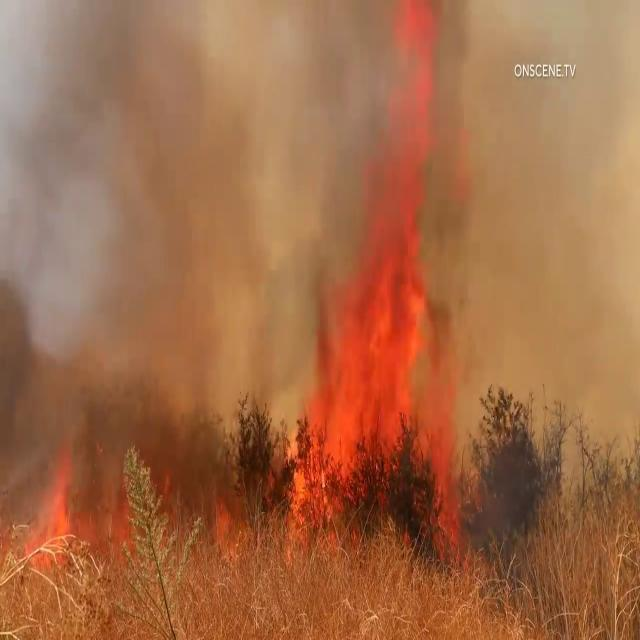Fire: (288, 71, 468, 522)
Smoke: (0, 1, 314, 511), (443, 0, 640, 525)
